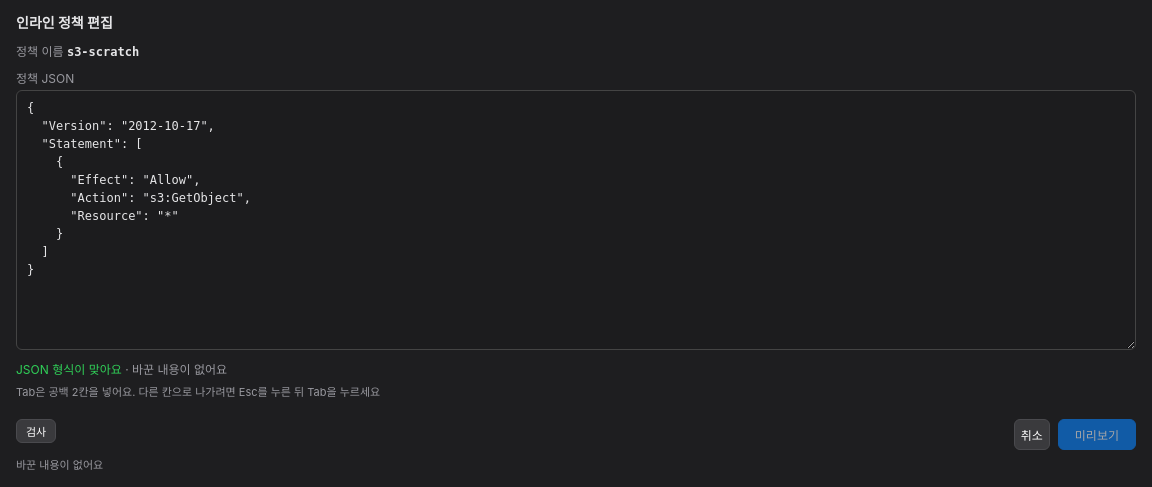
Scenario: live JSON check › JSON that is not an object (a number, an array) is refused before the backend sees it
Replace the text in the text box labelled "정책 JSON" with "[1, 2]" at (576, 220), box [16,90,1136,350]
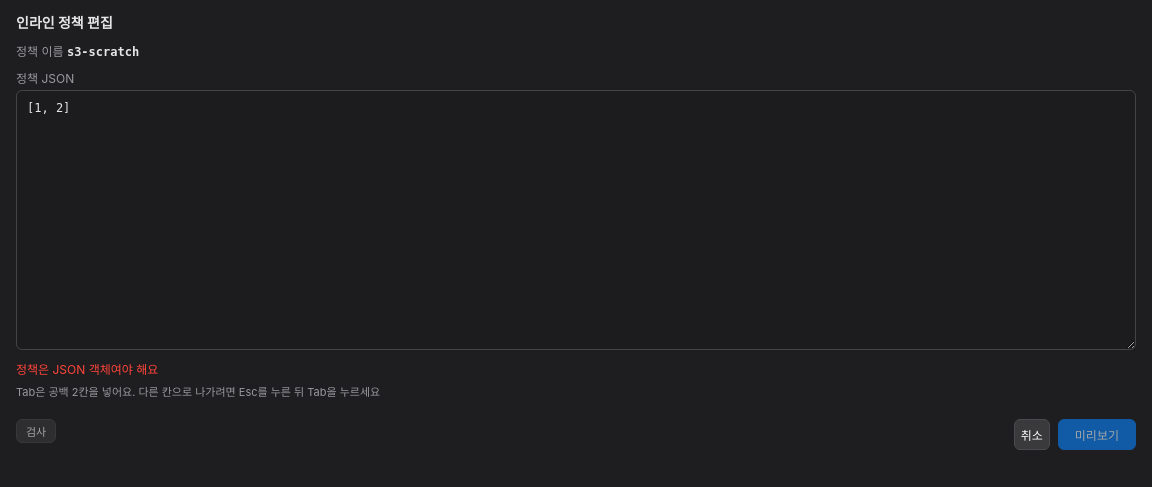
Expected: the button "미리보기" is disabled, [1058,419,1136,450]
Now the message reads "정책은 JSON 객체여야 해요", box [16,362,158,377]
